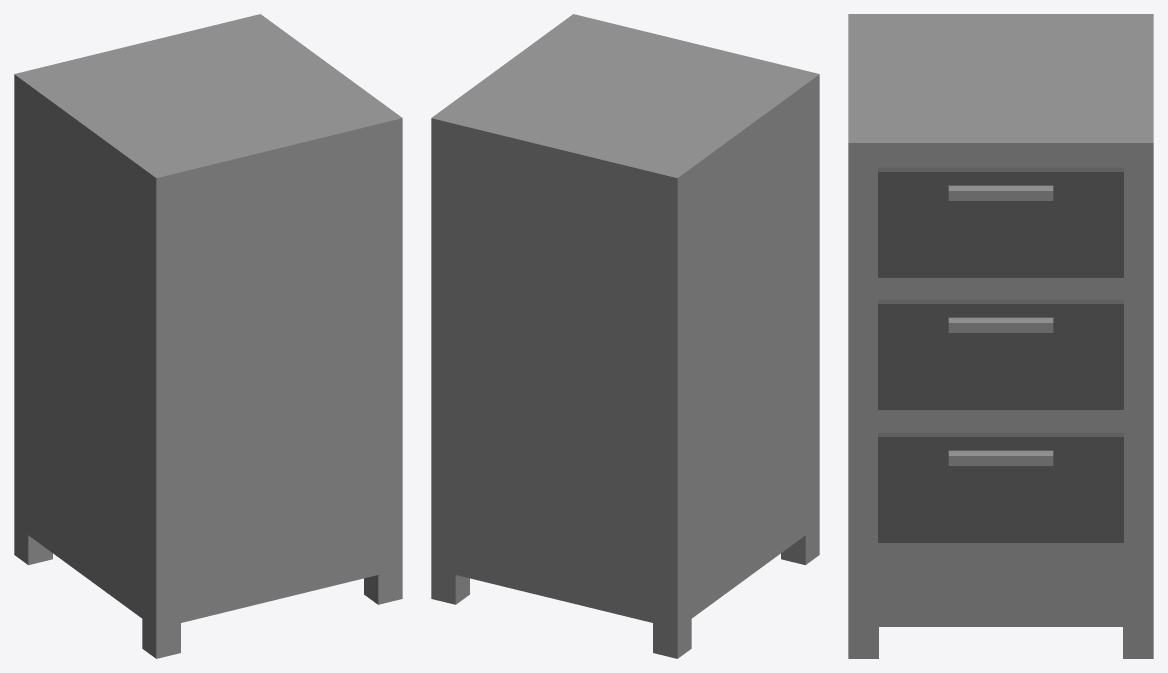
The model's file is Cabinet1.obj.
3 renders of one model, left to right at view 1: azimuth 30°, elevation 25°; view 2: azimuth 150°, elevation 25°; view 3: azimuth 270°, elevation 25°, orthographic. The views are drawn at different scales.
Visible parts, largest first — view 1: Cabinet1; view 2: Cabinet1; view 3: Cabinet1.
Boxes of the visible parts, box(x1,y1,x2,y2) form: Cabinet1: box(14, 14, 402, 658); Cabinet1: box(431, 14, 819, 658); Cabinet1: box(848, 14, 1153, 658).
Bounding box in the file's own units: 115 × 200 × 107.
